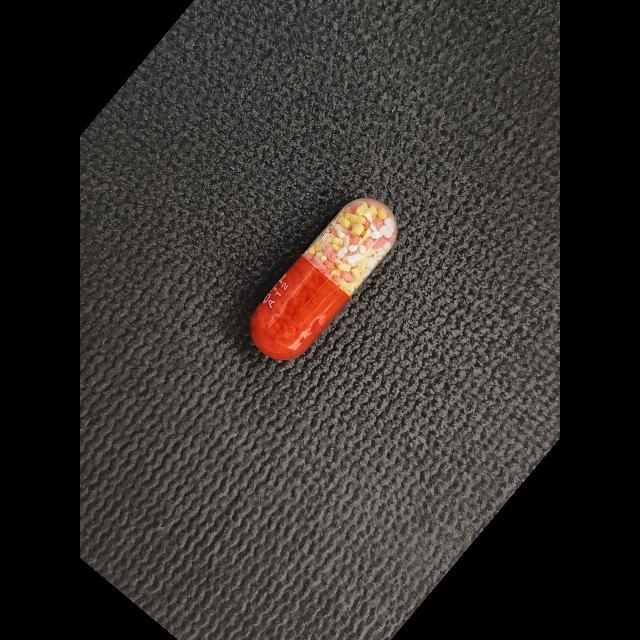Intact Capsule: (251, 198, 398, 360)
